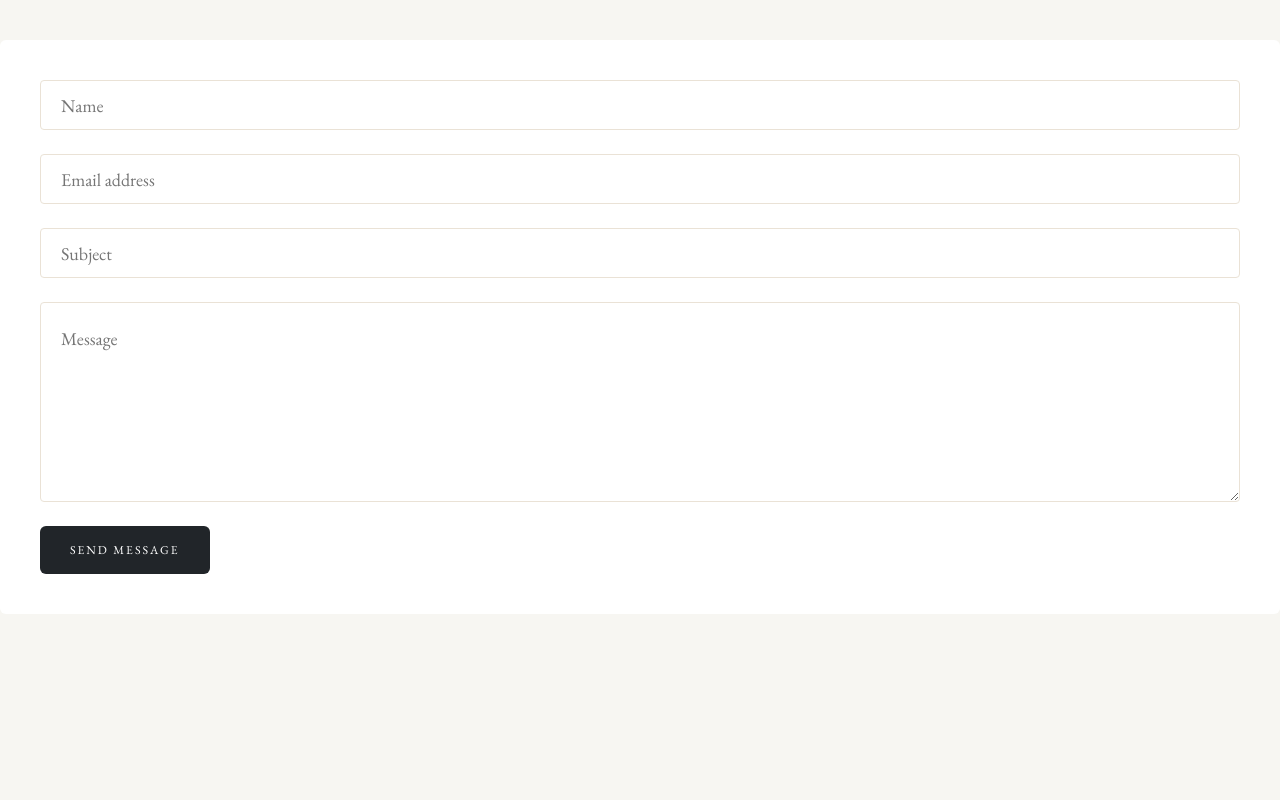
ContactForm component › shows error messages for missing fields
Click the button "Send message" at (125,550), box [40,526,210,574]
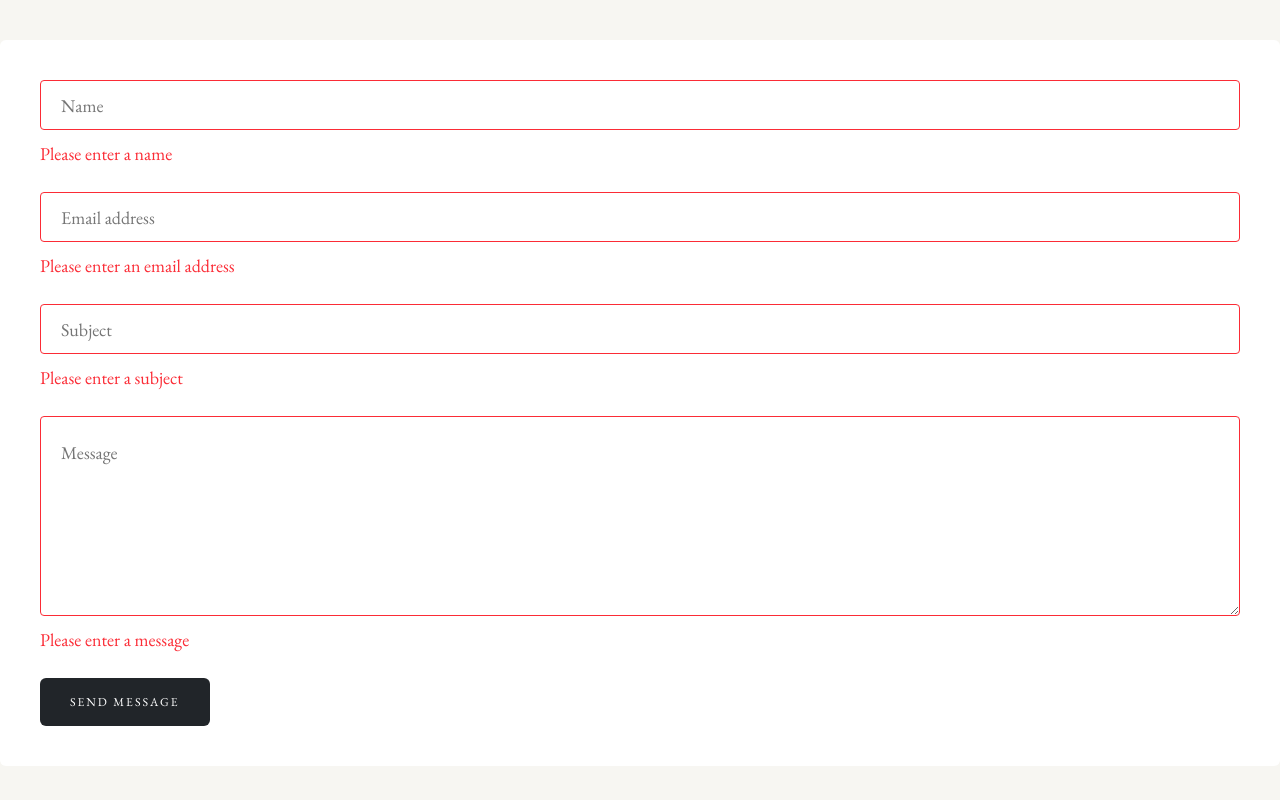
Expected: the text "Please enter a name" is shown, [40,142,172,165]
Expected: the text "Please enter an email address" is shown, [40,254,235,277]
Expected: the text "Please enter a subject" is shown, [40,366,183,389]
